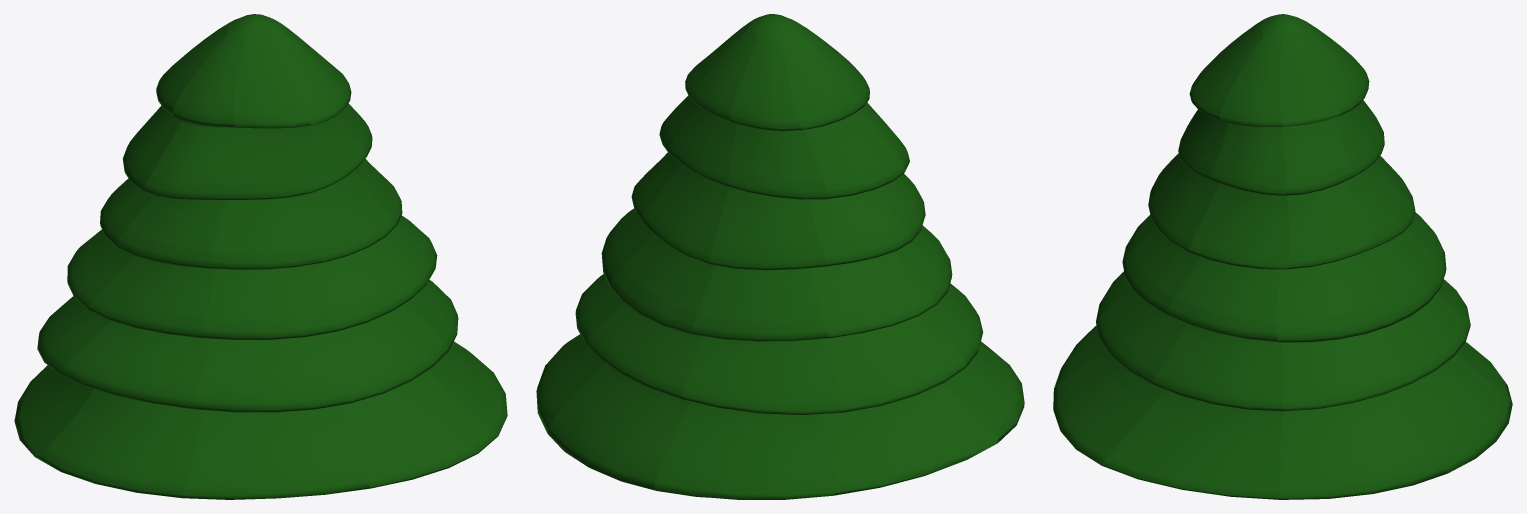
The model's file is tree1.obj.
3 views of the same model, side by side, from view 1: azimuth 30°, elevation 25°; view 2: azimuth 150°, elevation 25°; view 3: azimuth 270°, elevation 25° (orthographic). The views are drawn at different scales.
Parts seen in each view (by area): view 1: Cylinder_Cylinder.001; view 2: Cylinder_Cylinder.001; view 3: Cylinder_Cylinder.001.
Boxes of the visible parts, left/top/right/bottom form: Cylinder_Cylinder.001: left=14, top=14, right=507, bottom=499; Cylinder_Cylinder.001: left=536, top=14, right=1024, bottom=499; Cylinder_Cylinder.001: left=1053, top=14, right=1512, bottom=499.
Size of the model in its own units: 9.38 by 9.63 by 8.73.
2 materials, 2 textured.
